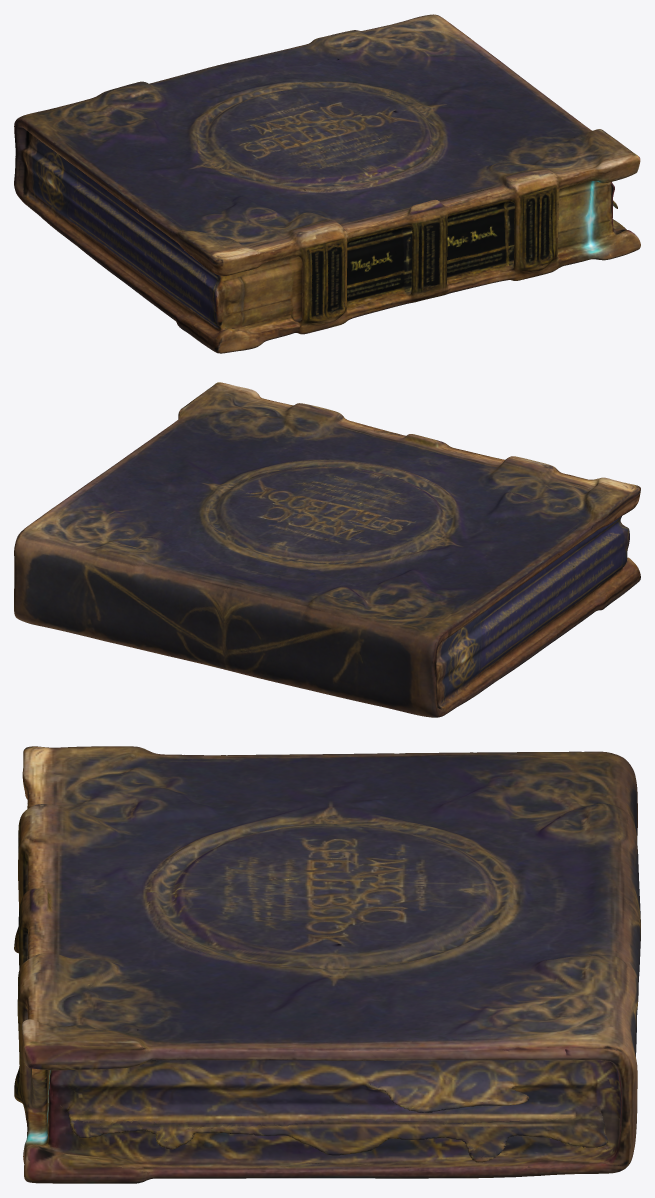
The model's file is The_magic_spellbook_0613140235_texture.fbx.
3 renders of one model, top to bottom at view 1: azimuth 30°, elevation 25°; view 2: azimuth 150°, elevation 25°; view 3: azimuth 270°, elevation 25°, orthographic. The views are drawn at different scales.
Visible parts, largest first — view 1: Mesh1_Mesh1.048; view 2: Mesh1_Mesh1.048; view 3: Mesh1_Mesh1.048.
Part boxes in pixels (<box>): Mesh1_Mesh1.048: <box>14,14,640,353</box>; Mesh1_Mesh1.048: <box>14,382,640,717</box>; Mesh1_Mesh1.048: <box>14,746,640,1183</box>.
Size of the model in its own units: 201 by 45.57 by 173.
Materials: 1 (1 with a texture image).
